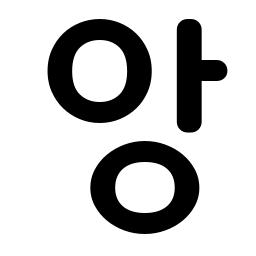Gaji: (161, 48, 218, 95)
